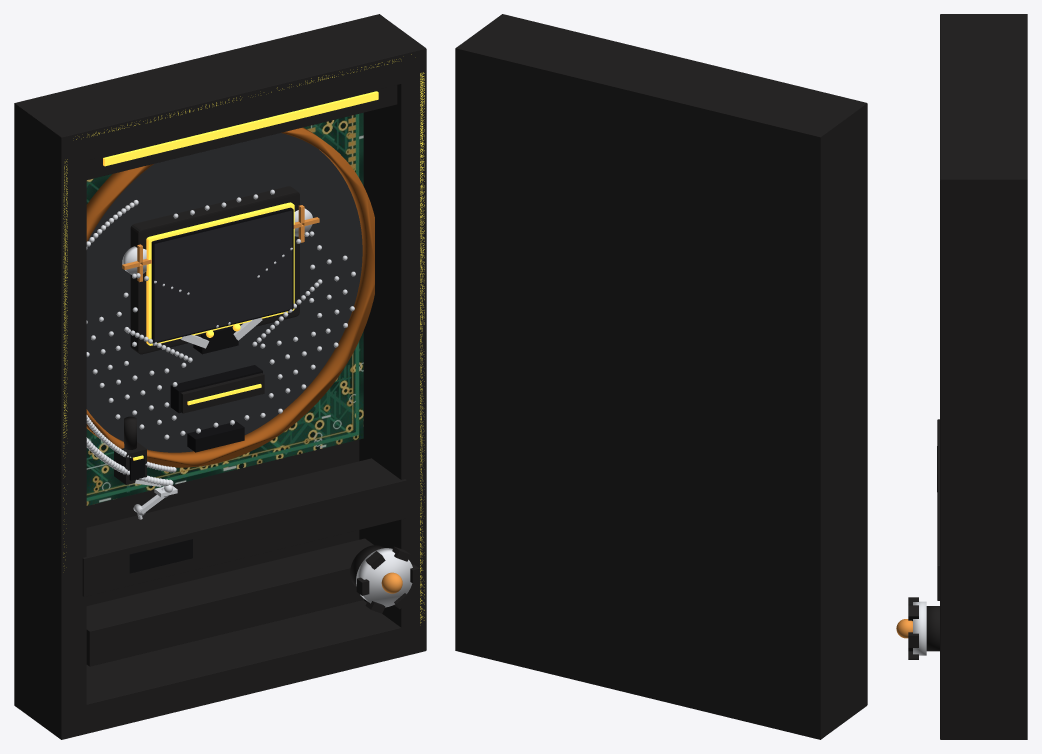
The model's file is pachinko.glb.
The picture shows the model from 3 angles, left to right: view 1: azimuth 30°, elevation 25°; view 2: azimuth 150°, elevation 25°; view 3: azimuth 270°, elevation 25°; orthographic projection. The views are drawn at different scales.
Parts seen in each view (by area): view 1: side_L, board, side_R, top, bottom, tray_top, tray_low, lcd_screen, back, panel, rail_out, lcd_bezel (+11 smaller); view 2: back, side_L, top, bottom; view 3: side_R, top, back, bottom, handle_base, handle_dial, tray_top, handle_knob.
Part boxes in pixels (x1,y1,x2,y2): side_L: [17, 106, 86, 739]; board: [86, 133, 362, 452]; side_R: [359, 16, 426, 654]; top: [17, 16, 426, 165]; bottom: [17, 600, 426, 739]; tray_top: [82, 458, 406, 596]; tray_low: [86, 538, 373, 666]; lcd_screen: [154, 210, 292, 342]; back: [14, 14, 383, 708]; panel: [86, 112, 363, 505]; rail_out: [86, 127, 374, 467]; lcd_bezel: [130, 186, 299, 354]; back: [455, 46, 825, 739]; side_L: [799, 103, 867, 735]; top: [460, 14, 867, 162]; bottom: [823, 677, 867, 737]; side_R: [940, 168, 1022, 737]; top: [940, 14, 1022, 202]; back: [1018, 14, 1027, 739]; bottom: [940, 712, 1022, 739]; handle_base: [926, 606, 939, 651]; handle_dial: [913, 601, 926, 655]; tray_top: [937, 419, 939, 600]; handle_knob: [896, 619, 912, 638].
Size of the model in its own units: 0.52 by 0.82 by 0.174.
Materials: 11 (1 with a texture image).
